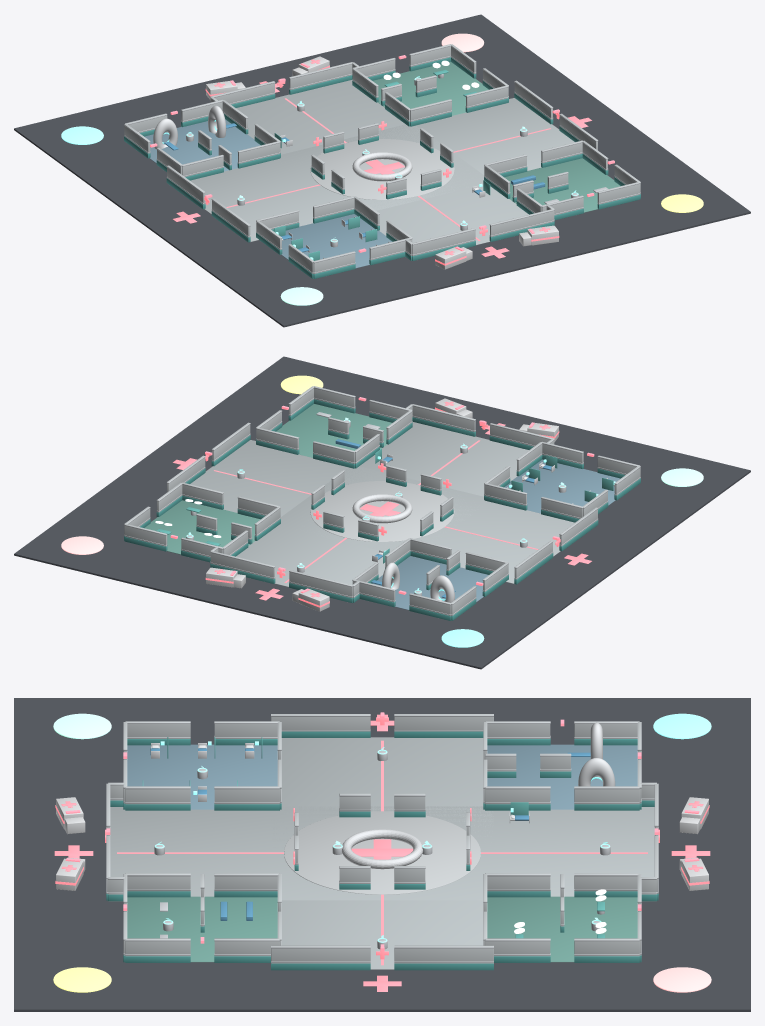
File: Map5_Karantina_Hastanesi_2v2v2v2.glb
3 renders of one model, top to bottom at view 1: azimuth 30°, elevation 25°; view 2: azimuth 150°, elevation 25°; view 3: azimuth 270°, elevation 25°, orthographic. The views are drawn at different scales.
Visible parts, largest first — view 1: Hospital_Exterior_Apron, Floor_EW_MainCorridor, Floor_NS_MainCorridor, Floor_Central_Triage_Rotunda, Floor_SW_Patient_ICU_Ward, Floor_NE_Surgical_Operating_Wing, Floor_SE_Emergency_Pharmacy_Morgue, Floor_NW_MRI_Radiology_Suite, Central_Nurses_Station_Desk, HospWall_7, HospWall_8, HospWall_3 (+18 smaller); view 2: Hospital_Exterior_Apron, Floor_EW_MainCorridor, Floor_NS_MainCorridor, Floor_Central_Triage_Rotunda, Floor_SW_Patient_ICU_Ward, Floor_SE_Emergency_Pharmacy_Morgue, Floor_NE_Surgical_Operating_Wing, Floor_NW_MRI_Radiology_Suite, Central_Nurses_Station_Desk, HospWall_2, HospWall_3, HospWall_8 (+18 smaller); view 3: Hospital_Exterior_Apron, Floor_NS_MainCorridor, Floor_EW_MainCorridor, Floor_Central_Triage_Rotunda, Floor_NE_Surgical_Operating_Wing, Floor_SE_Emergency_Pharmacy_Morgue, Floor_SW_Patient_ICU_Ward, Floor_NW_MRI_Radiology_Suite, HospWall_15, HospWall_16, Central_Nurses_Station_Desk, HospWall_12 (+31 smaller).
Boxes of the visible parts, x1=… form: Hospital_Exterior_Apron: x1=14, y1=14, x2=750, y2=327; Floor_EW_MainCorridor: x1=190, y1=98, x2=574, y2=241; Floor_NS_MainCorridor: x1=236, y1=80, x2=528, y2=245; Floor_Central_Triage_Rotunda: x1=310, y1=139, x2=454, y2=199; Floor_SW_Patient_ICU_Ward: x1=281, y1=214, x2=392, y2=268; Floor_NE_Surgical_Operating_Wing: x1=373, y1=62, x2=488, y2=115; Floor_SE_Emergency_Pharmacy_Morgue: x1=504, y1=158, x2=620, y2=212; Floor_NW_MRI_Radiology_Suite: x1=144, y1=119, x2=260, y2=171; Central_Nurses_Station_Desk: x1=352, y1=152, x2=412, y2=181; HospWall_7: x1=412, y1=228, x2=475, y2=255; HospWall_8: x1=490, y1=209, x2=553, y2=236; HospWall_3: x1=289, y1=62, x2=352, y2=89; Hospital_Exterior_Apron: x1=14, y1=356, x2=750, y2=669; Floor_EW_MainCorridor: x1=190, y1=440, x2=574, y2=583; Floor_NS_MainCorridor: x1=236, y1=422, x2=528, y2=587; Floor_Central_Triage_Rotunda: x1=310, y1=481, x2=454, y2=541; Floor_SW_Patient_ICU_Ward: x1=504, y1=459, x2=620, y2=513; Floor_SE_Emergency_Pharmacy_Morgue: x1=276, y1=404, x2=391, y2=457; Floor_NE_Surgical_Operating_Wing: x1=144, y1=500, x2=260, y2=554; Floor_NW_MRI_Radiology_Suite: x1=372, y1=556, x2=488, y2=610; Central_Nurses_Station_Desk: x1=352, y1=494, x2=412, y2=523; HospWall_2: x1=289, y1=570, x2=352, y2=597; HospWall_3: x1=211, y1=551, x2=274, y2=578; HospWall_8: x1=412, y1=404, x2=475, y2=431; Hospital_Exterior_Apron: x1=14, y1=698, x2=750, y2=1011; Floor_NS_MainCorridor: x1=110, y1=806, x2=654, y2=900; Floor_EW_MainCorridor: x1=271, y1=737, x2=493, y2=969; Floor_Central_Triage_Rotunda: x1=284, y1=811, x2=480, y2=894; Floor_NE_Surgical_Operating_Wing: x1=487, y1=896, x2=637, y2=962; Floor_SE_Emergency_Pharmacy_Morgue: x1=127, y1=896, x2=277, y2=962; Floor_SW_Patient_ICU_Ward: x1=127, y1=744, x2=277, y2=809; Floor_NW_MRI_Radiology_Suite: x1=487, y1=744, x2=637, y2=809; HospWall_15: x1=271, y1=945, x2=370, y2=963; HospWall_16: x1=394, y1=945, x2=493, y2=963; Central_Nurses_Station_Desk: x1=342, y1=829, x2=422, y2=869; HospWall_12: x1=271, y1=714, x2=370, y2=731.
Bounding box in the file's own units: 86 × 6.73 × 86.
